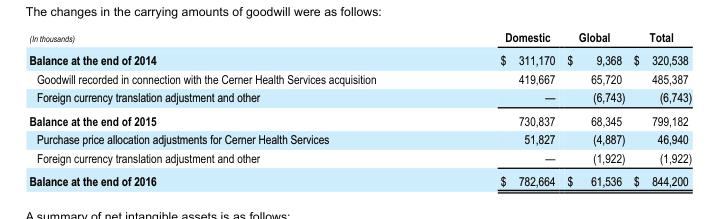table: (28, 29, 691, 187)
table column: (28, 29, 437, 187), (437, 29, 560, 187), (560, 29, 628, 187), (628, 29, 691, 187)
table column header: (28, 29, 691, 47)
table row: (28, 47, 691, 68), (28, 87, 691, 108), (28, 108, 691, 129), (28, 147, 691, 168), (28, 68, 691, 87), (28, 168, 691, 187), (28, 29, 691, 47), (28, 129, 691, 147)
